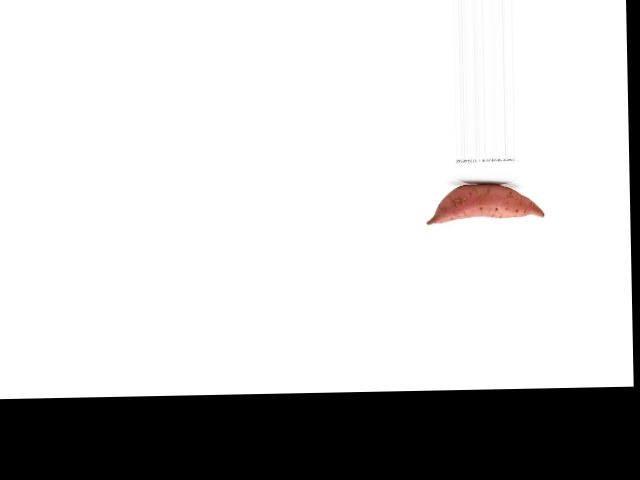sweet_potato: (425, 181, 545, 231)
